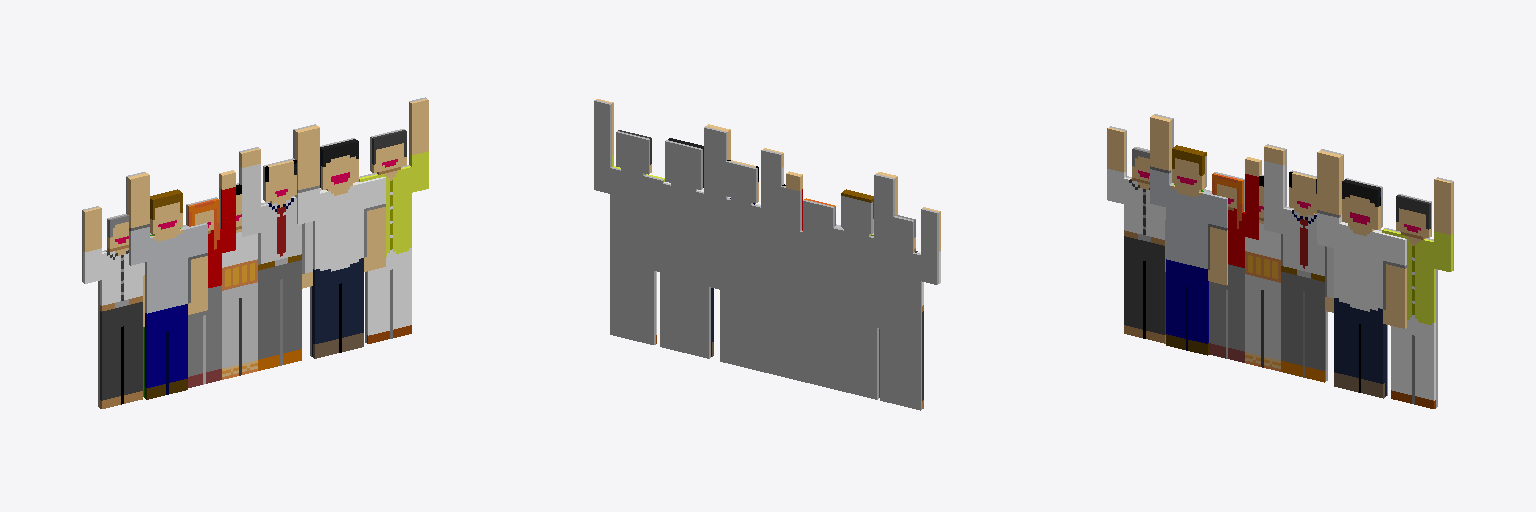
3 renders of one model, left to right at view 1: azimuth 30°, elevation 25°; view 2: azimuth 150°, elevation 25°; view 3: azimuth 330°, elevation 25°, orthographic.
Parts seen in each view (by area): view 1: object 1; view 2: object 1; view 3: object 1.
Part boxes in pixels (x1,y1,x2,y2): object 1: (82,97,428,408); object 1: (594,99,940,410); object 1: (1107,114,1453,408).
Bounding box in the file's own units: 12.5 × 8 × 0.3.
Materials: 1 (1 with a texture image).